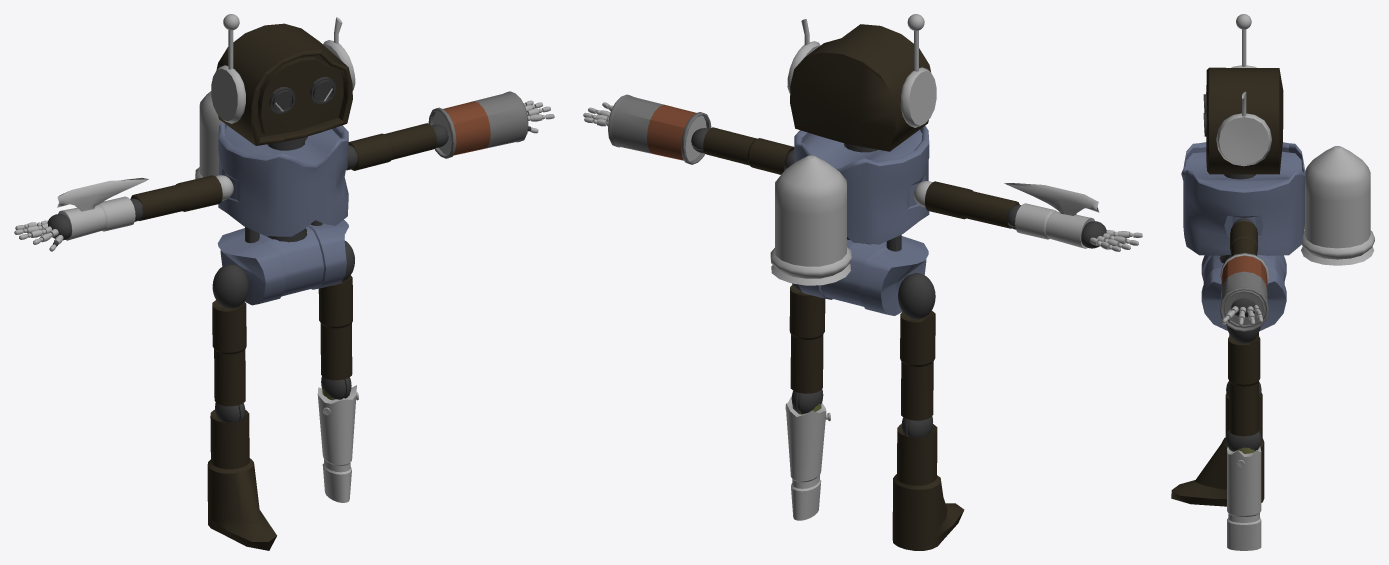
File: SubstancePainterTest.fbx
3 renders of one model, left to right at view 1: azimuth 30°, elevation 25°; view 2: azimuth 150°, elevation 25°; view 3: azimuth 270°, elevation 25°, orthographic. The views are drawn at different scales.
Parts seen in each view (by area): view 1: Chest, Head, Hips2, LeftLeg4, RightArm4 (×2), Can, PegLeg, RightArm7, LeftLeg5, RighLeg2, EarR1, JetPack (+1 smaller); view 2: Head, JetPack, Chest, LeftLeg4, RightArm4 (×2), Hips2, Can, PegLeg, RightArm7, LeftLeg5, RighLeg2, EarR1 (+1 smaller); view 3: Chest, JetPack, Head, PegLeg, RighLeg2, Can, Hips2, LeftLeg4, EarR, RightArm4, RightLeg7, RightHip.
Part boxes in pixels (<box>): Chest: <box>218,122,348,236</box>; Head: <box>216,23,352,145</box>; Hips2: <box>217,220,348,305</box>; LeftLeg4: <box>207,409,276,550</box>; RightArm4 (×2): <box>131,123,436,220</box>; Can: <box>428,91,528,158</box>; PegLeg: <box>317,385,356,502</box>; RightArm7: <box>57,178,148,240</box>; LeftLeg5: <box>212,300,246,406</box>; RighLeg2: <box>318,275,352,380</box>; EarR1: <box>211,65,245,123</box>; JetPack: <box>195,91,221,179</box>; Head: <box>790,24,930,151</box>; JetPack: <box>770,155,851,285</box>; Chest: <box>794,125,929,244</box>; LeftLeg4: <box>892,424,964,550</box>; RightArm4 (×2): <box>703,127,1019,228</box>; Hips2: <box>798,236,928,315</box>; Can: <box>608,94,711,164</box>; PegLeg: <box>785,395,826,520</box>; RightArm7: <box>1004,183,1099,248</box>; LeftLeg5: <box>900,311,935,420</box>; RighLeg2: <box>789,284,825,393</box>; EarR1: <box>900,67,936,127</box>; Chest: <box>1181,142,1305,255</box>; JetPack: <box>1301,146,1374,265</box>; Head: <box>1206,67,1283,174</box>; PegLeg: <box>1227,446,1261,550</box>; RighLeg2: <box>1228,335,1260,436</box>; Can: <box>1220,253,1269,331</box>; Hips2: <box>1201,254,1286,330</box>; LeftLeg4: <box>1171,392,1264,506</box>; EarR: <box>1216,113,1271,166</box>; RightArm4: <box>1230,221,1257,256</box>; RightLeg7: <box>1226,430,1261,451</box>; RightHip: <box>1227,326,1260,343</box>.
Bounding box in the file's own units: 108 × 99.13 × 37.81.
